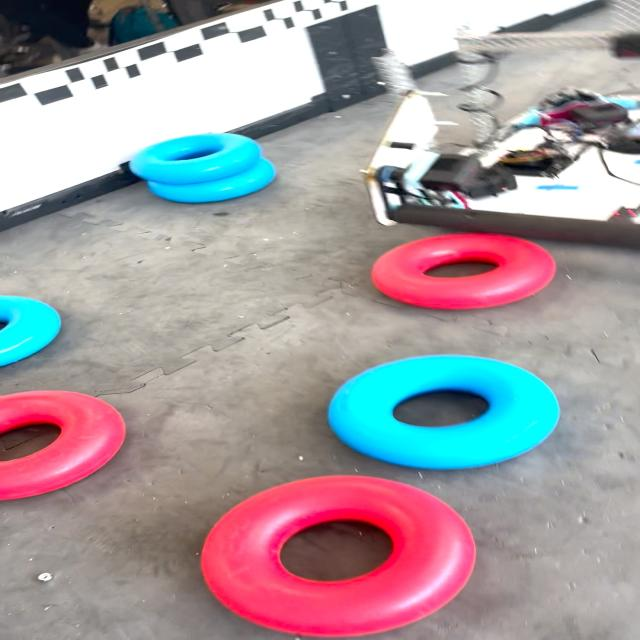Blue-Ring: (329, 355, 560, 469), (129, 132, 262, 184), (147, 158, 276, 202), (0, 295, 60, 366)
Red-Ring: (202, 475, 476, 637), (371, 234, 556, 309), (0, 390, 124, 499)
